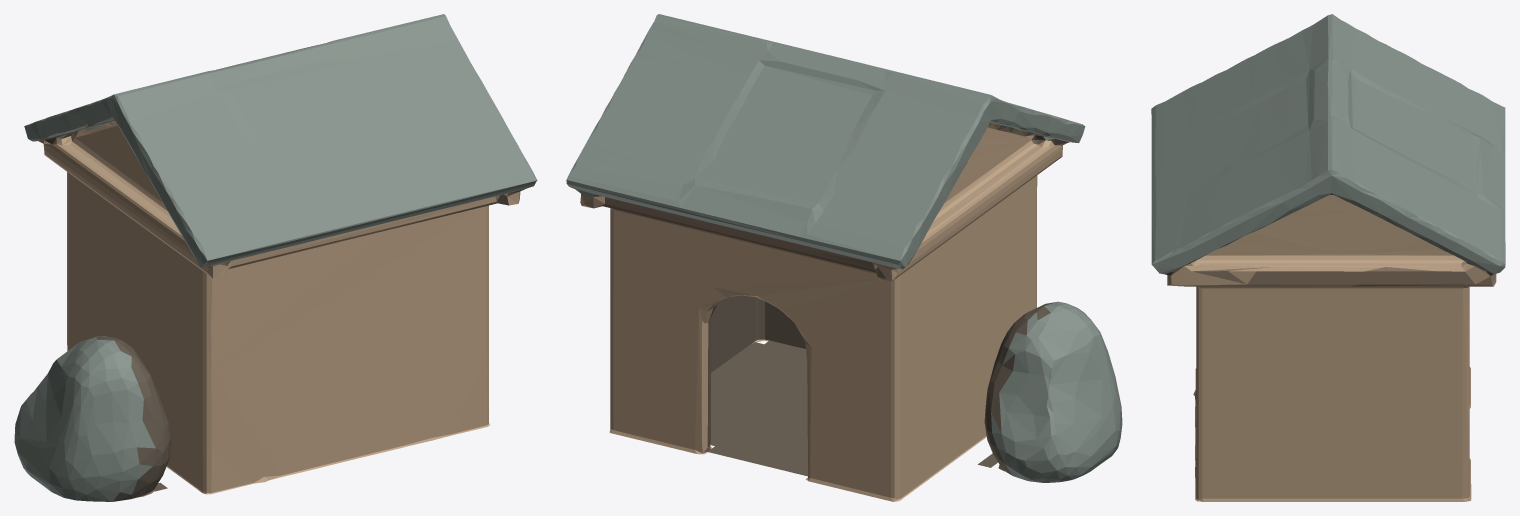
3 renders of one model, left to right at view 1: azimuth 30°, elevation 25°; view 2: azimuth 150°, elevation 25°; view 3: azimuth 270°, elevation 25°, orthographic. The views are drawn at different scales.
Parts seen in each view (by area): view 1: geometry_0; view 2: geometry_0; view 3: geometry_0.
Part boxes in pixels (x1,y1,x2,y2): geometry_0: (14,14,537,501); geometry_0: (566,14,1122,501); geometry_0: (1151,14,1505,501).
Bounding box in the file's own units: 0.9538 × 0.7579 × 0.7094.
